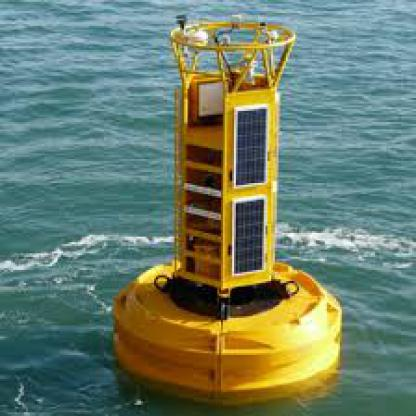buoy: (102, 7, 351, 402)
